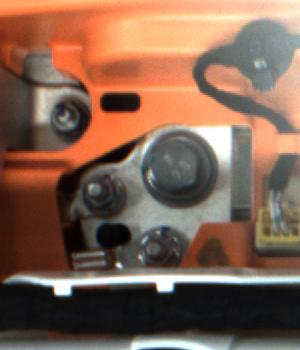nut_b: (137, 127, 232, 212)
